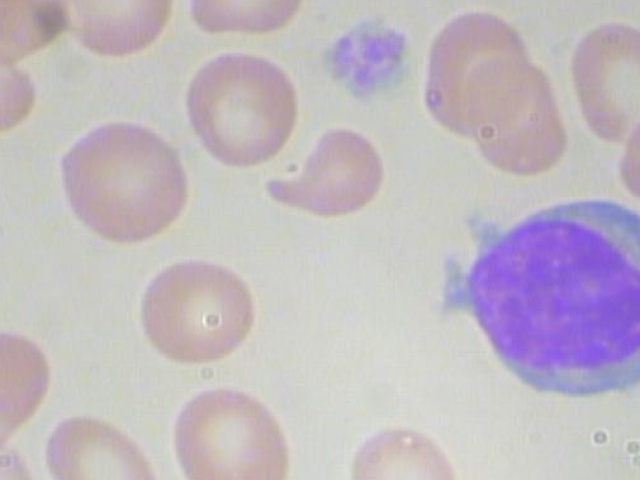RBC: (48, 115, 201, 257), (173, 44, 312, 174), (124, 255, 269, 368), (413, 4, 533, 135), (261, 108, 395, 220), (159, 380, 302, 480), (564, 16, 640, 147), (332, 413, 473, 480), (40, 0, 184, 59), (0, 326, 59, 457), (184, 0, 317, 42), (619, 79, 640, 210)
WBC: (427, 195, 640, 415)
